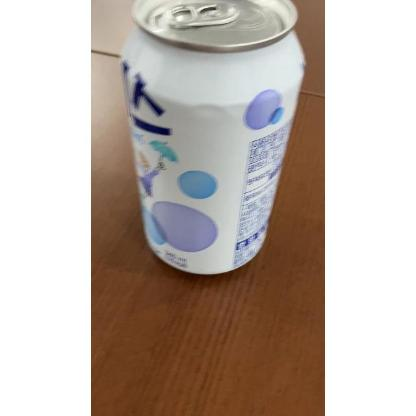Can: (118, 1, 308, 277)
